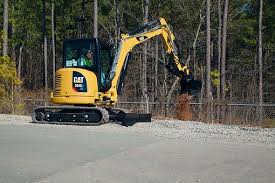excavator: (32, 18, 201, 123)
